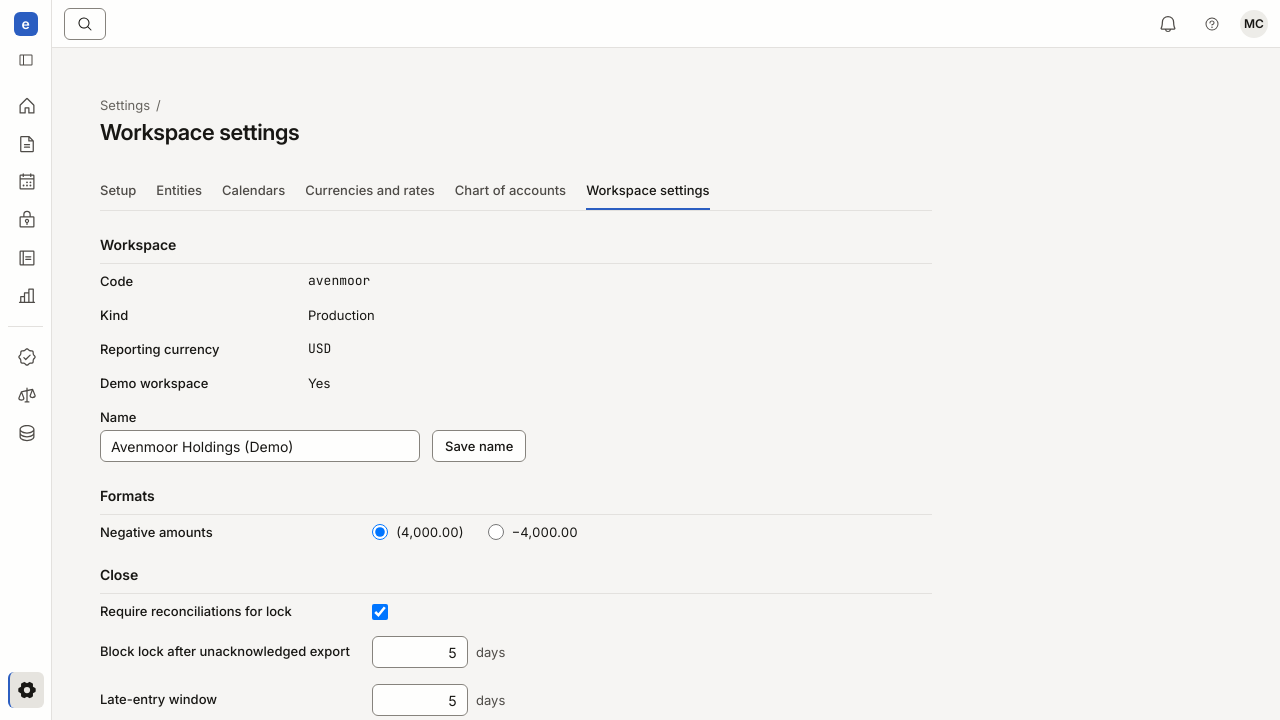
Scenario: SF-15:workspace › changes in two categories create two versions; invalid values and a short comment stop the submit
Replace the text in the field labelled "Late-entry window" with "40" at [420, 700], box [372,684,468,716]
(page scrolled)
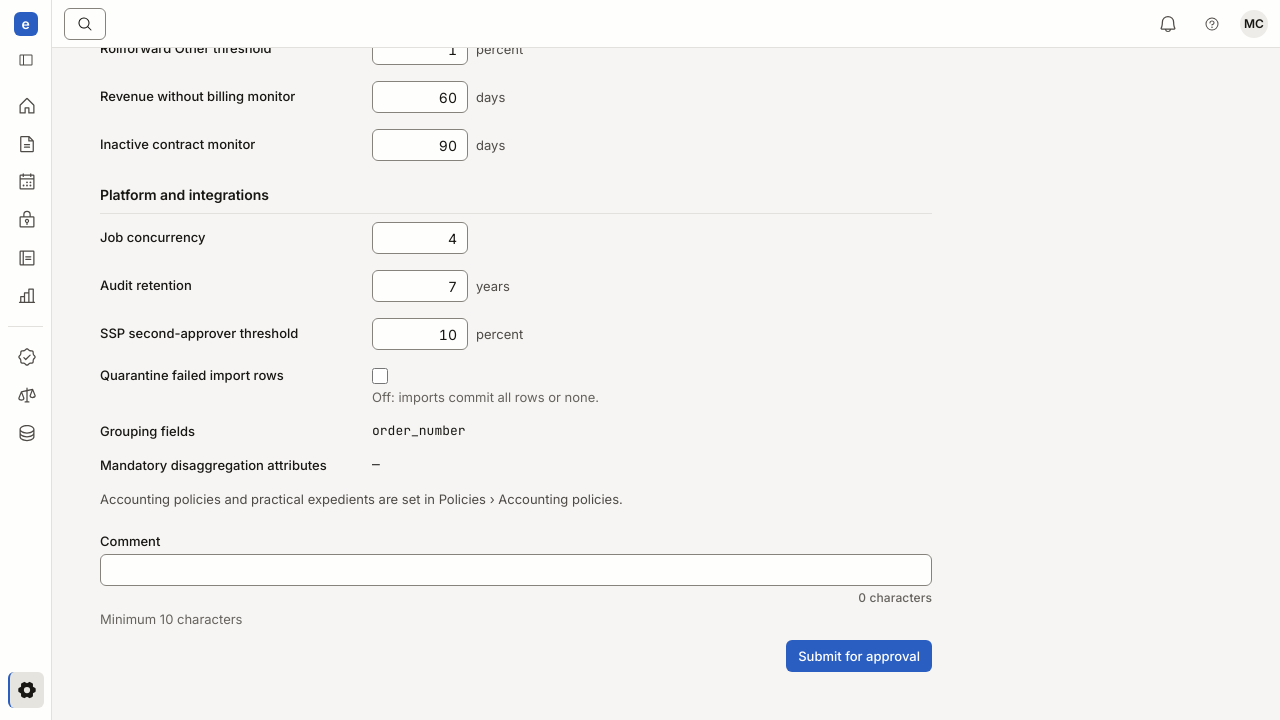
Type "Short" into the text box labelled "Comment" at [516, 570], box [100,554,932,586]
Click the button "Submit for approval" at [859, 656], box [786,640,932,672]
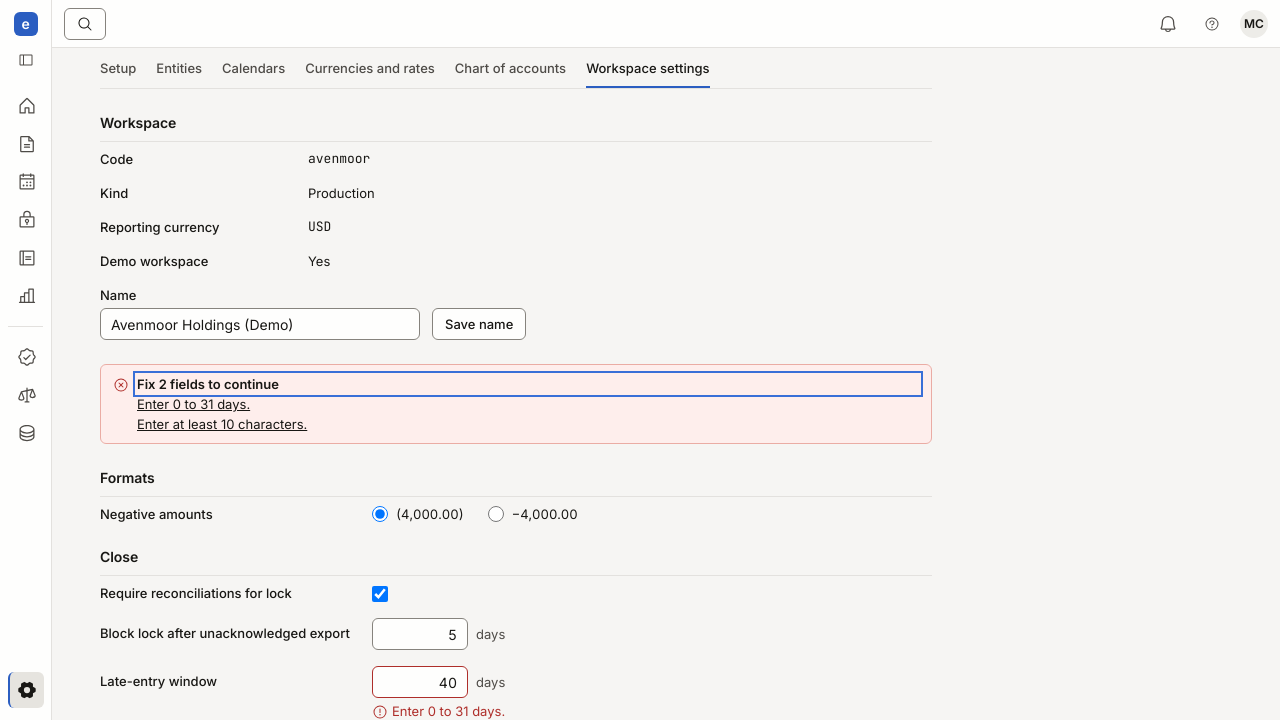
Check: the link "Enter 0 to 31 days." is shown, box [137,396,250,412]
Check: the link "Enter at least 10 characters." is shown, box [137,416,307,432]
Replace the text in the field labelled "Late-entry window" with "7" at [420, 682], box [372,666,468,698]
(page scrolled)
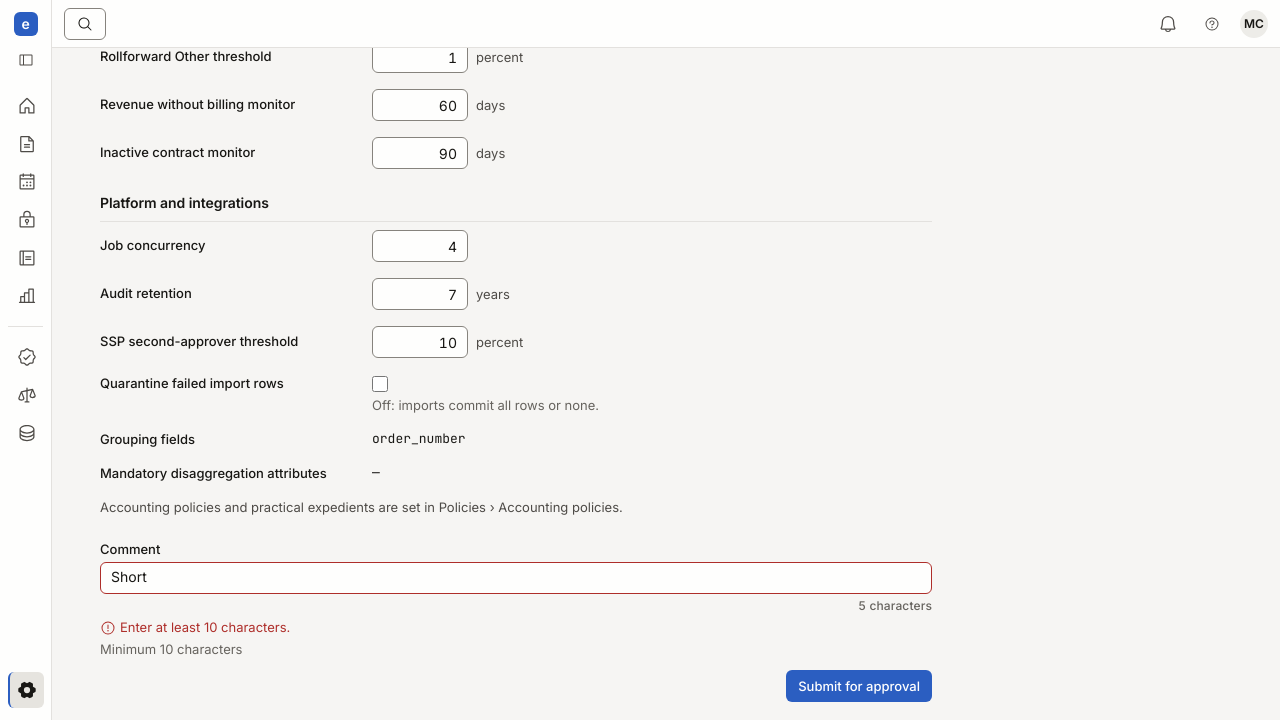
Click the checkbox labelled "Quarantine failed import rows" at [380, 384], box [372,376,388,392]
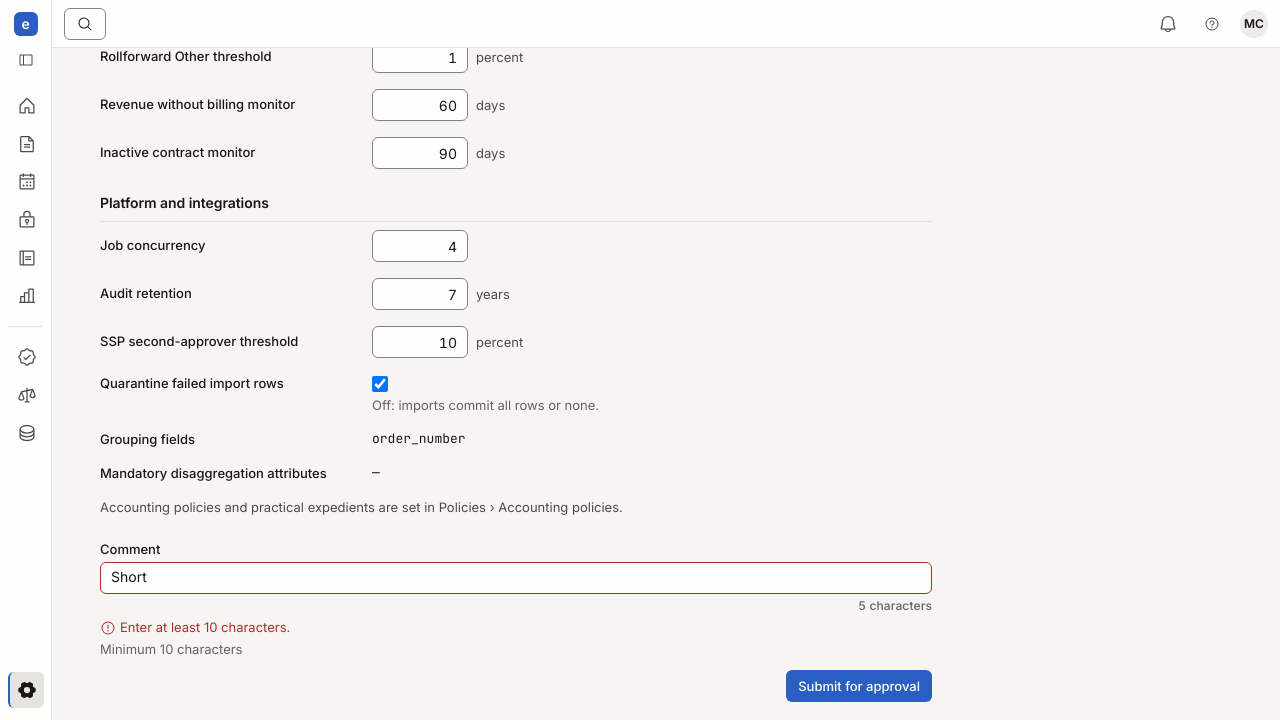
Replace the text in the field labelled "SSP second-approver threshold" with "12.5" at [420, 342], box [372,326,468,358]
Replace the text in the text box labelled "Comment" with "Close window and quarantine" at [516, 578], box [100,562,932,594]
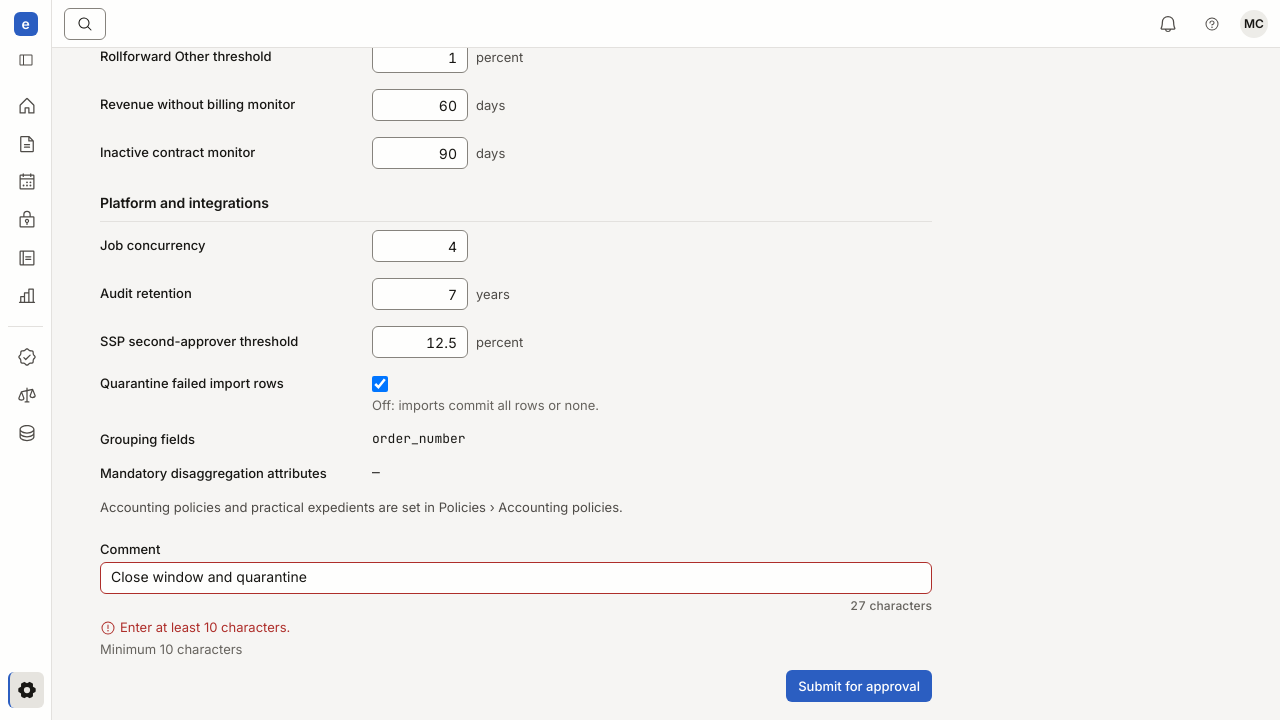
Click the button "Submit for approval" at [859, 686], box [786,670,932,702]
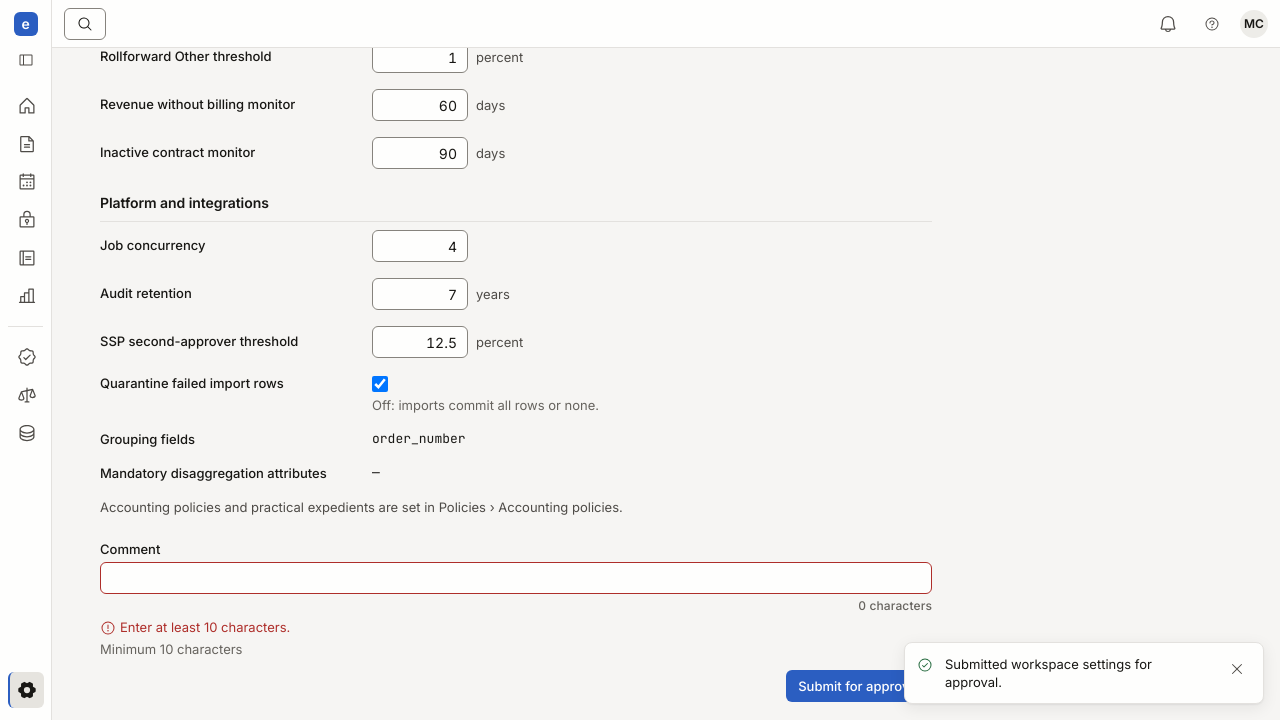
Check: the text "Submitted workspace settings for approval." is shown, box [945,656,1152,690]
